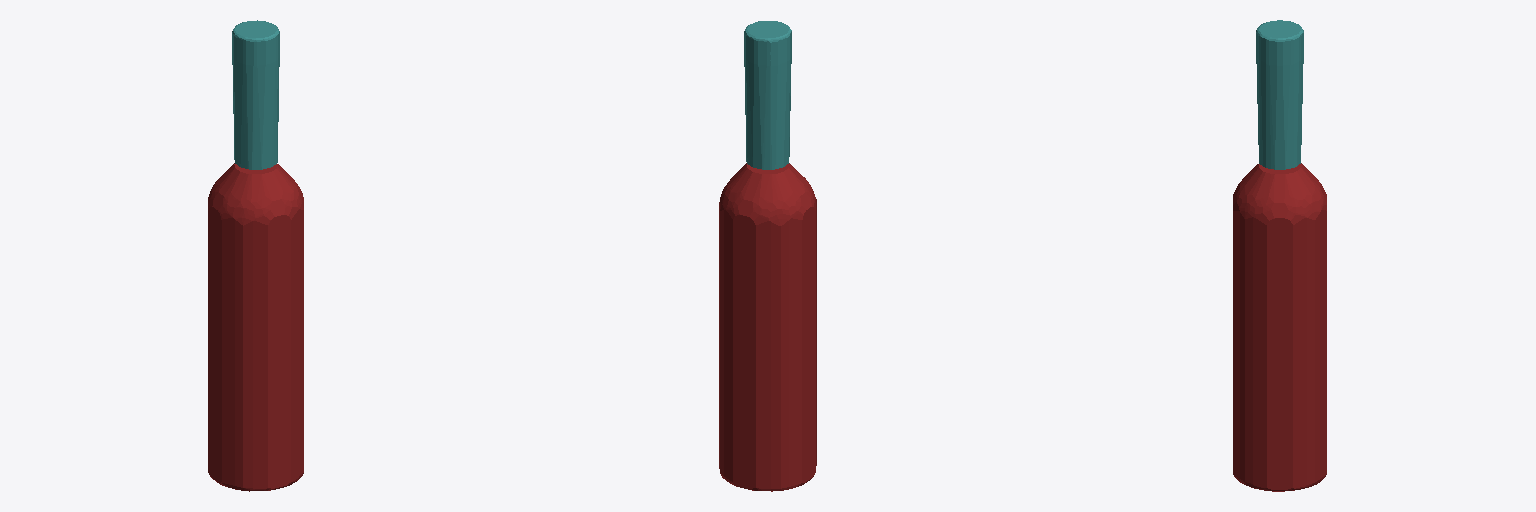
URDF robot description (root):
<robot name="root">
  <link name="bottle_body">
    <inertial>
      <origin xyz="0 0 0" rpy="0 0 0"/>
    </inertial>
    <mass value="1.00E-02"/>
    <visual>
      <origin xyz="0 0 0" rpy="0 0 0"/>
      <geometry>
        <mesh filename="core-bottle-b742bd7f675191c24ad6a0c67b7f7a5b-coacd_convex_piece_1.obj" scale="1.0000E-01 1.0000E-01 1.0000E-01"/>
      </geometry>
      <material name="">
        <color rgba="6.00E-01 2.00E-01 2.00E-01 1"/>
      </material>
    </visual>
    <collision>
      <origin xyz="0 0 0" rpy="0 0 0"/>
      <geometry>
        <mesh filename="core-bottle-b742bd7f675191c24ad6a0c67b7f7a5b-coacd_convex_piece_1.obj" scale="1.0000E-01 1.0000E-01 1.0000E-01"/>
      </geometry>
    </collision>
  </link>
  <link name="bottle_cap">
    <origin xyz="0 0 0.002" rpy="0 0 0"/>
    <mass value="1.00E-02"/>
    <visual>
      <origin xyz="0 0 0.002" rpy="0 0 0"/>
      <geometry>
        <mesh filename="core-bottle-b742bd7f675191c24ad6a0c67b7f7a5b-coacd_convex_piece_0.obj" scale="1.0000E-01 1.0000E-01 1.0000E-01"/>
      </geometry>
      <material name="">
        <color rgba="3.00E-01 6.00E-01 6.00E-01 1"/>
      </material>
    </visual>
    <collision>
      <origin xyz="0 0 0.002" rpy="0 0 0"/>
      <geometry>
        <mesh filename="core-bottle-b742bd7f675191c24ad6a0c67b7f7a5b-coacd_convex_piece_0.obj" scale="1.0000E-01 1.0000E-01 1.0000E-01"/>
      </geometry>
    </collision>
  </link>
  <joint name="bottle_cap_joint" type="revolute">
    <origin xyz="0 0 0" rpy="0 0 0"/>
    <parent link="bottle_body"/>
    <child link="bottle_cap"/>
    <axis xyz="0 0 1"/>
    <limit lower="0.00" upper="6.28"/>
    <dynamics damping="0.05"/>
  </joint>
</robot>

--- Facts derived from the render (not from the file) ---
Views: 3 orthographic renders of the robot side by side, from view 1: azimuth 30°, elevation 25°; view 2: azimuth 150°, elevation 25°; view 3: azimuth 270°, elevation 25°.
Model root with 2 links and 1 joints (1 revolute), rooted at bottle_body, posed every joint at zero.
Visible links, largest first — view 1: bottle_body, bottle_cap; view 2: bottle_body, bottle_cap; view 3: bottle_body, bottle_cap.
Link boxes in pixels (left/top/right/bottom): bottle_body: left=208, top=163, right=303, bottom=491; bottle_cap: left=232, top=20, right=279, bottom=169; bottle_body: left=719, top=163, right=816, bottom=491; bottle_cap: left=744, top=21, right=791, bottom=169; bottle_body: left=1233, top=163, right=1326, bottom=491; bottle_cap: left=1256, top=20, right=1303, bottom=169.
Size in the robot's own frame: 0.0377 by 0.0377 by 0.1946 metres.
2 mesh visuals loaded from 2 distinct referenced files (2 OBJ).